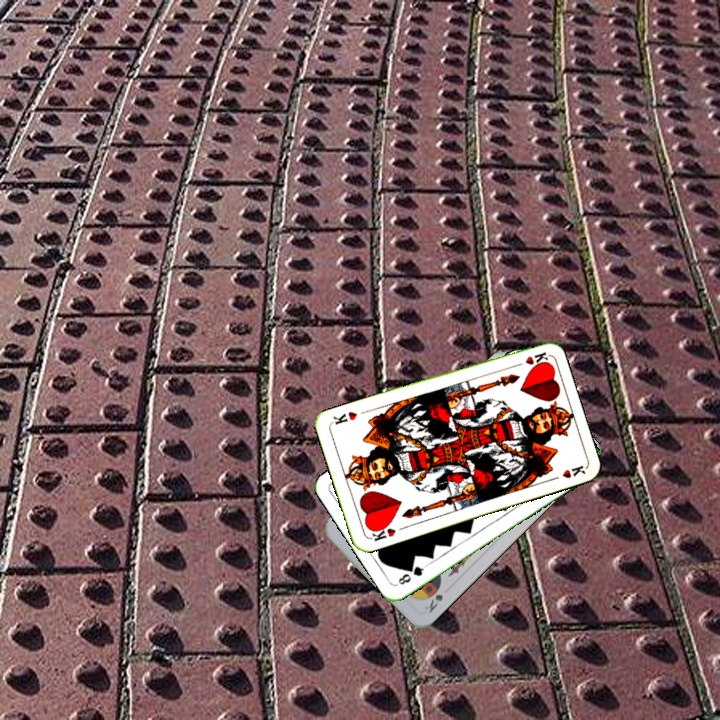G8: (394, 560, 429, 587)
HK: (509, 348, 550, 370), (366, 520, 398, 544)
SK: (425, 590, 445, 616)
